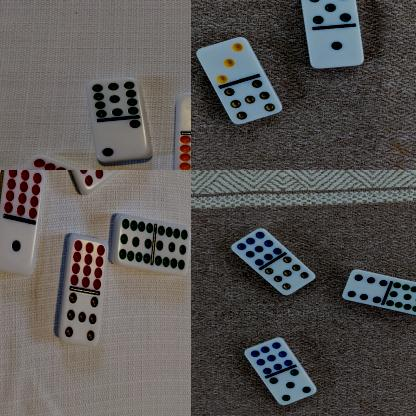pip-1: (306, 26, 364, 69), (0, 215, 33, 273), (174, 90, 191, 129)
pip-10: (172, 132, 191, 170)
pip-11: (86, 78, 140, 118), (152, 223, 190, 273), (118, 212, 153, 266), (385, 280, 416, 315)
pip-12: (67, 233, 106, 290), (2, 170, 43, 217), (12, 155, 76, 170)
pip-2: (91, 118, 149, 160)
pip-3: (195, 35, 253, 86)
pip-5: (269, 368, 316, 405), (300, 0, 357, 27)
pip-6: (340, 269, 388, 304)
pip-7: (222, 79, 282, 123), (59, 291, 100, 344), (262, 256, 315, 296)
pip-8: (66, 170, 113, 188)
pip-9: (231, 228, 281, 266), (244, 336, 292, 375)
